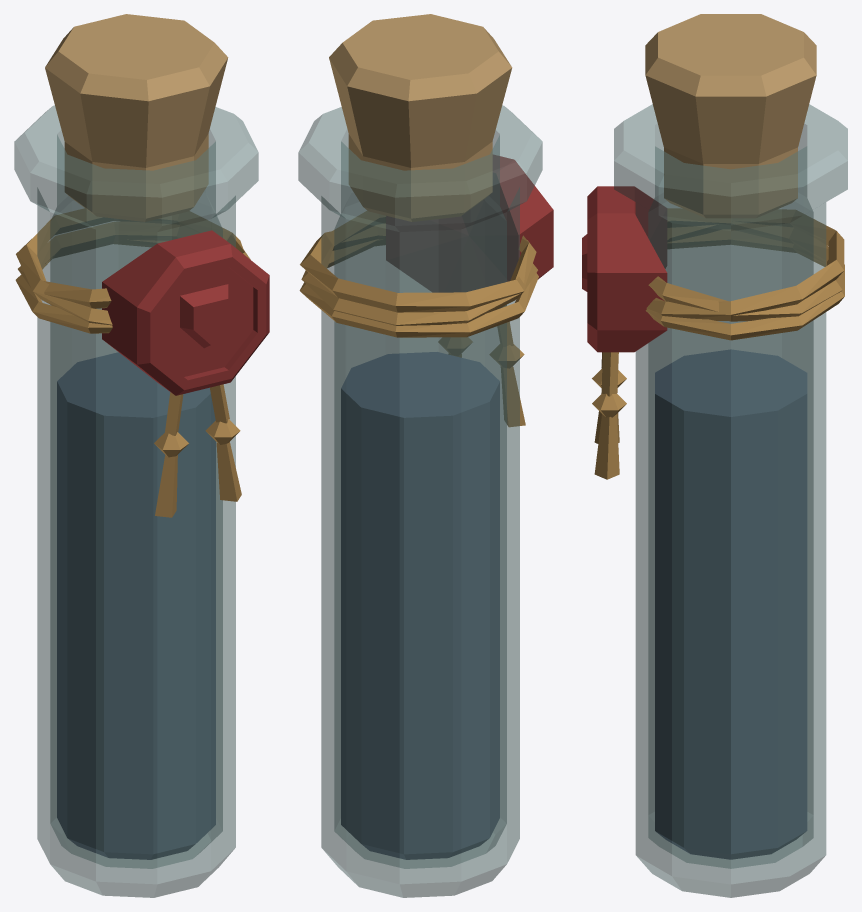
The model's file is corked-potion-vial-a6e7e9.glb.
The picture shows the model from 3 angles, left to right: view 1: azimuth 30°, elevation 25°; view 2: azimuth 150°, elevation 25°; view 3: azimuth 270°, elevation 25°; orthographic projection.
Visible parts, largest first — view 1: glass, body, cork-mesh; view 2: glass, body, cork-mesh; view 3: glass, body, cork-mesh.
Boxes of the visible parts, bbox=[...] form: glass: bbox=[14, 105, 258, 897]; body: bbox=[15, 208, 269, 859]; cork-mesh: bbox=[45, 14, 228, 221]; glass: bbox=[298, 105, 542, 897]; body: bbox=[299, 155, 553, 859]; cork-mesh: bbox=[329, 14, 512, 221]; glass: bbox=[614, 104, 847, 897]; body: bbox=[582, 186, 844, 859]; cork-mesh: bbox=[645, 14, 816, 218].
Bounding box in the file's own units: 0.043 × 0.1578 × 0.0465.
